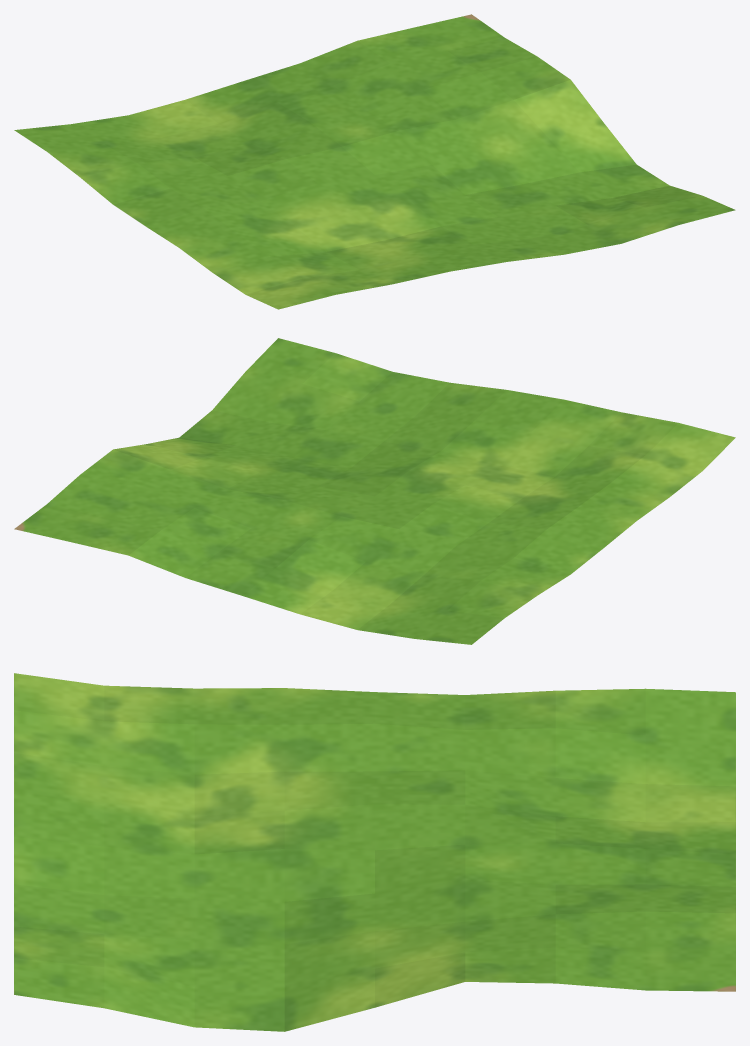
The model's file is chunk_0_0_far.fbx.
3 renders of one model, top to bottom at view 1: azimuth 30°, elevation 25°; view 2: azimuth 150°, elevation 25°; view 3: azimuth 270°, elevation 25°, orthographic. The views are drawn at different scales.
Parts seen in each view (by area): view 1: chunk_0_0_far; view 2: chunk_0_0_far; view 3: chunk_0_0_far.
Part boxes in pixels (x1,y1,x2,y2): chunk_0_0_far: (14,14,735,309); chunk_0_0_far: (14,338,735,644); chunk_0_0_far: (14,673,735,1031).
Bounding box in the file's own units: 6400 × 6400 × 534.
Materials: 1 (1 with a texture image).
